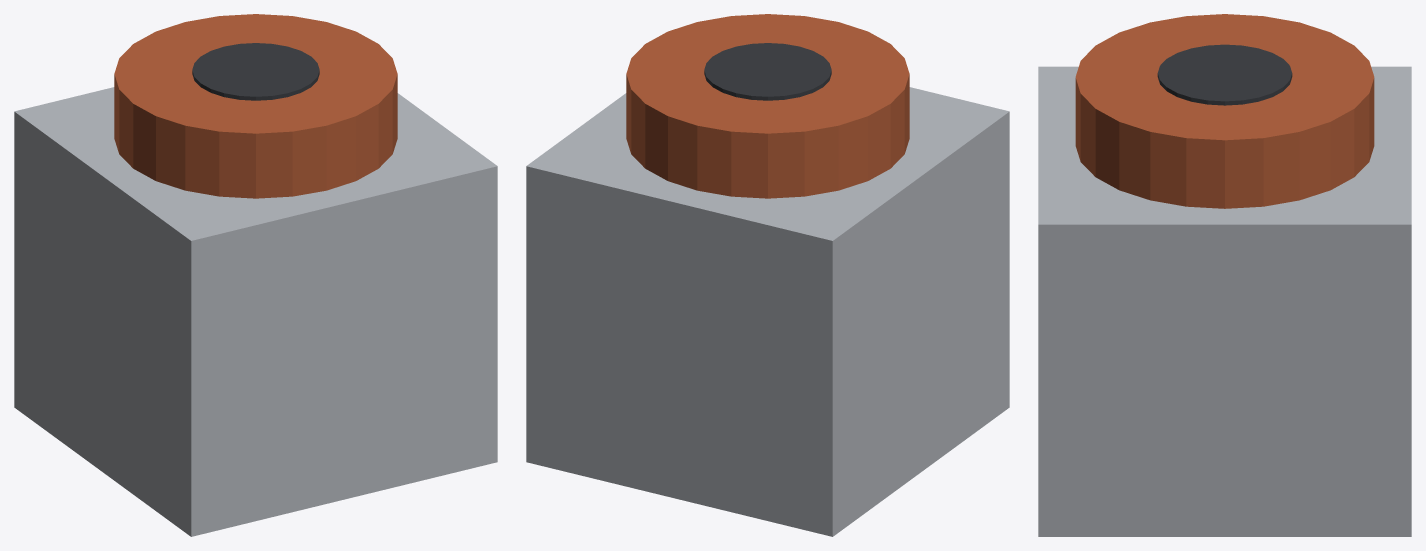
File: tandoor_32.glb
3 renders of one model, left to right at view 1: azimuth 30°, elevation 25°; view 2: azimuth 150°, elevation 25°; view 3: azimuth 270°, elevation 25°, orthographic. The views are drawn at different scales.
Bounding box in the file's own units: 0.8128 × 0.9244 × 0.8128.
